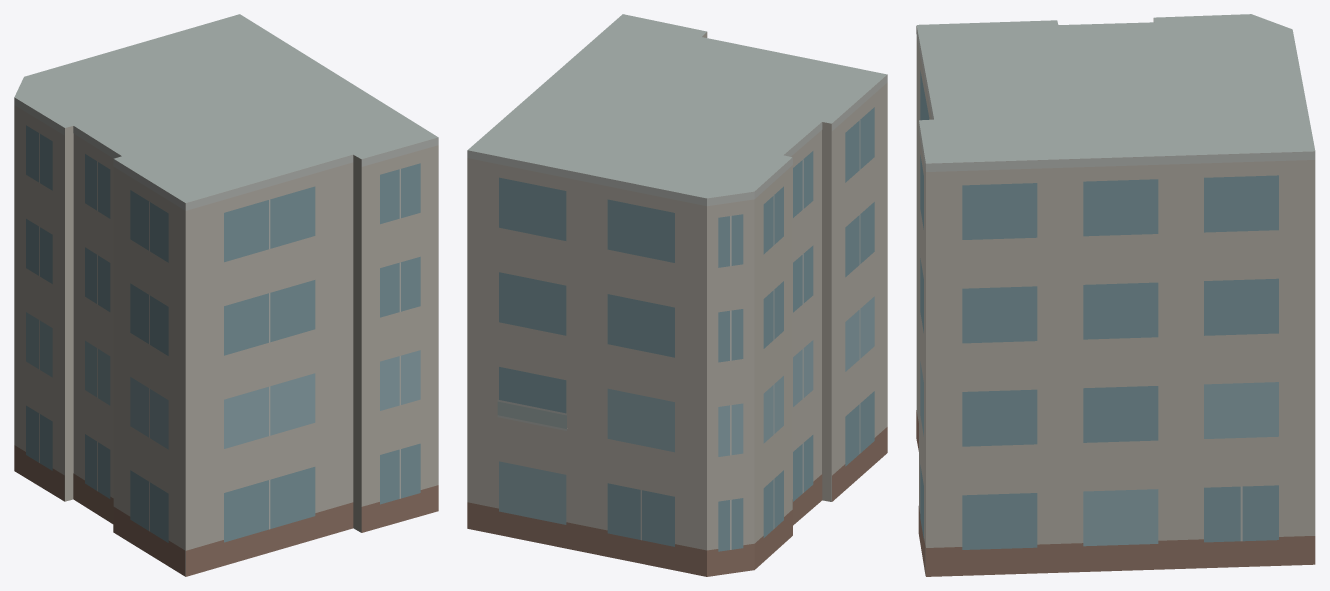
The model's file is survey-upis-32531475.glb.
The picture shows the model from 3 angles, left to right: view 1: azimuth 30°, elevation 25°; view 2: azimuth 150°, elevation 25°; view 3: azimuth 270°, elevation 25°; orthographic projection. The views are drawn at different scales.
Parts seen in each view (by area): view 1: survey-upis-32531475.tmp; view 2: survey-upis-32531475.tmp; view 3: survey-upis-32531475.tmp.
Part boxes in pixels (x1=…): survey-upis-32531475.tmp: x1=14, y1=14, x2=438, y2=576; survey-upis-32531475.tmp: x1=467, y1=14, x2=887, y2=576; survey-upis-32531475.tmp: x1=916, y1=14, x2=1315, y2=576.
Size of the model in its own units: 9.21 by 11.85 by 10.38.
